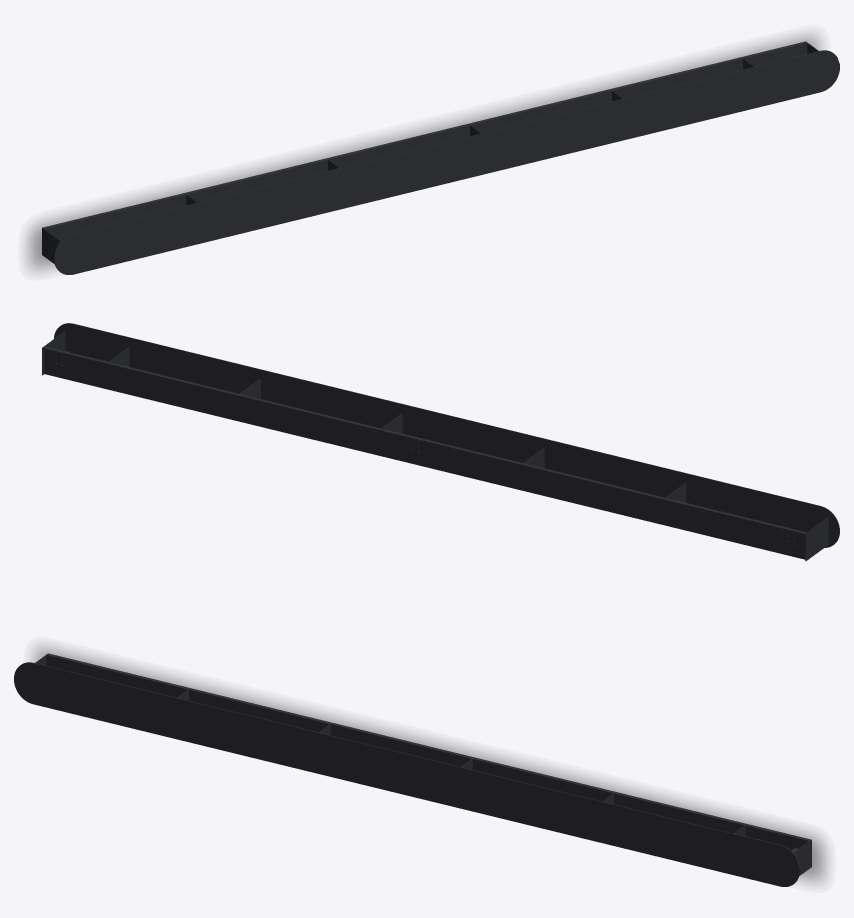
File: round-patron.0be5bf1167.ar.glb
3 views of the same model, one above another, from view 1: azimuth 30°, elevation 25°; view 2: azimuth 150°, elevation 25°; view 3: azimuth 330°, elevation 25° (orthographic).
Visible parts, largest first — view 1: NAUO1, object 2; view 2: NAUO1; view 3: NAUO1, object 2.
Boxes of the visible parts, <box> form: NAUO1: <box>42,41,839,274</box>; object 2: <box>26,34,821,271</box>; NAUO1: <box>42,323,839,561</box>; NAUO1: <box>14,653,811,886</box>; object 2: <box>32,646,827,883</box>.
Size of the model in its own units: 1.88 by 0.17 by 0.092.
2 materials, 1 textured.
